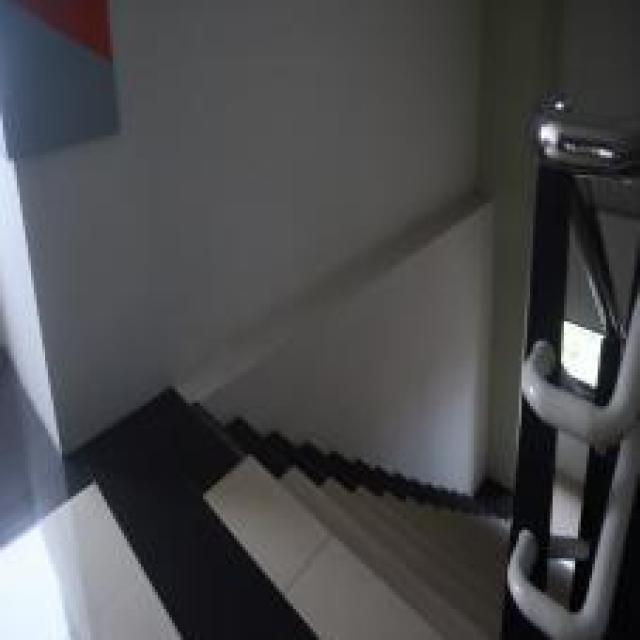downstair: (156, 478, 461, 638)
